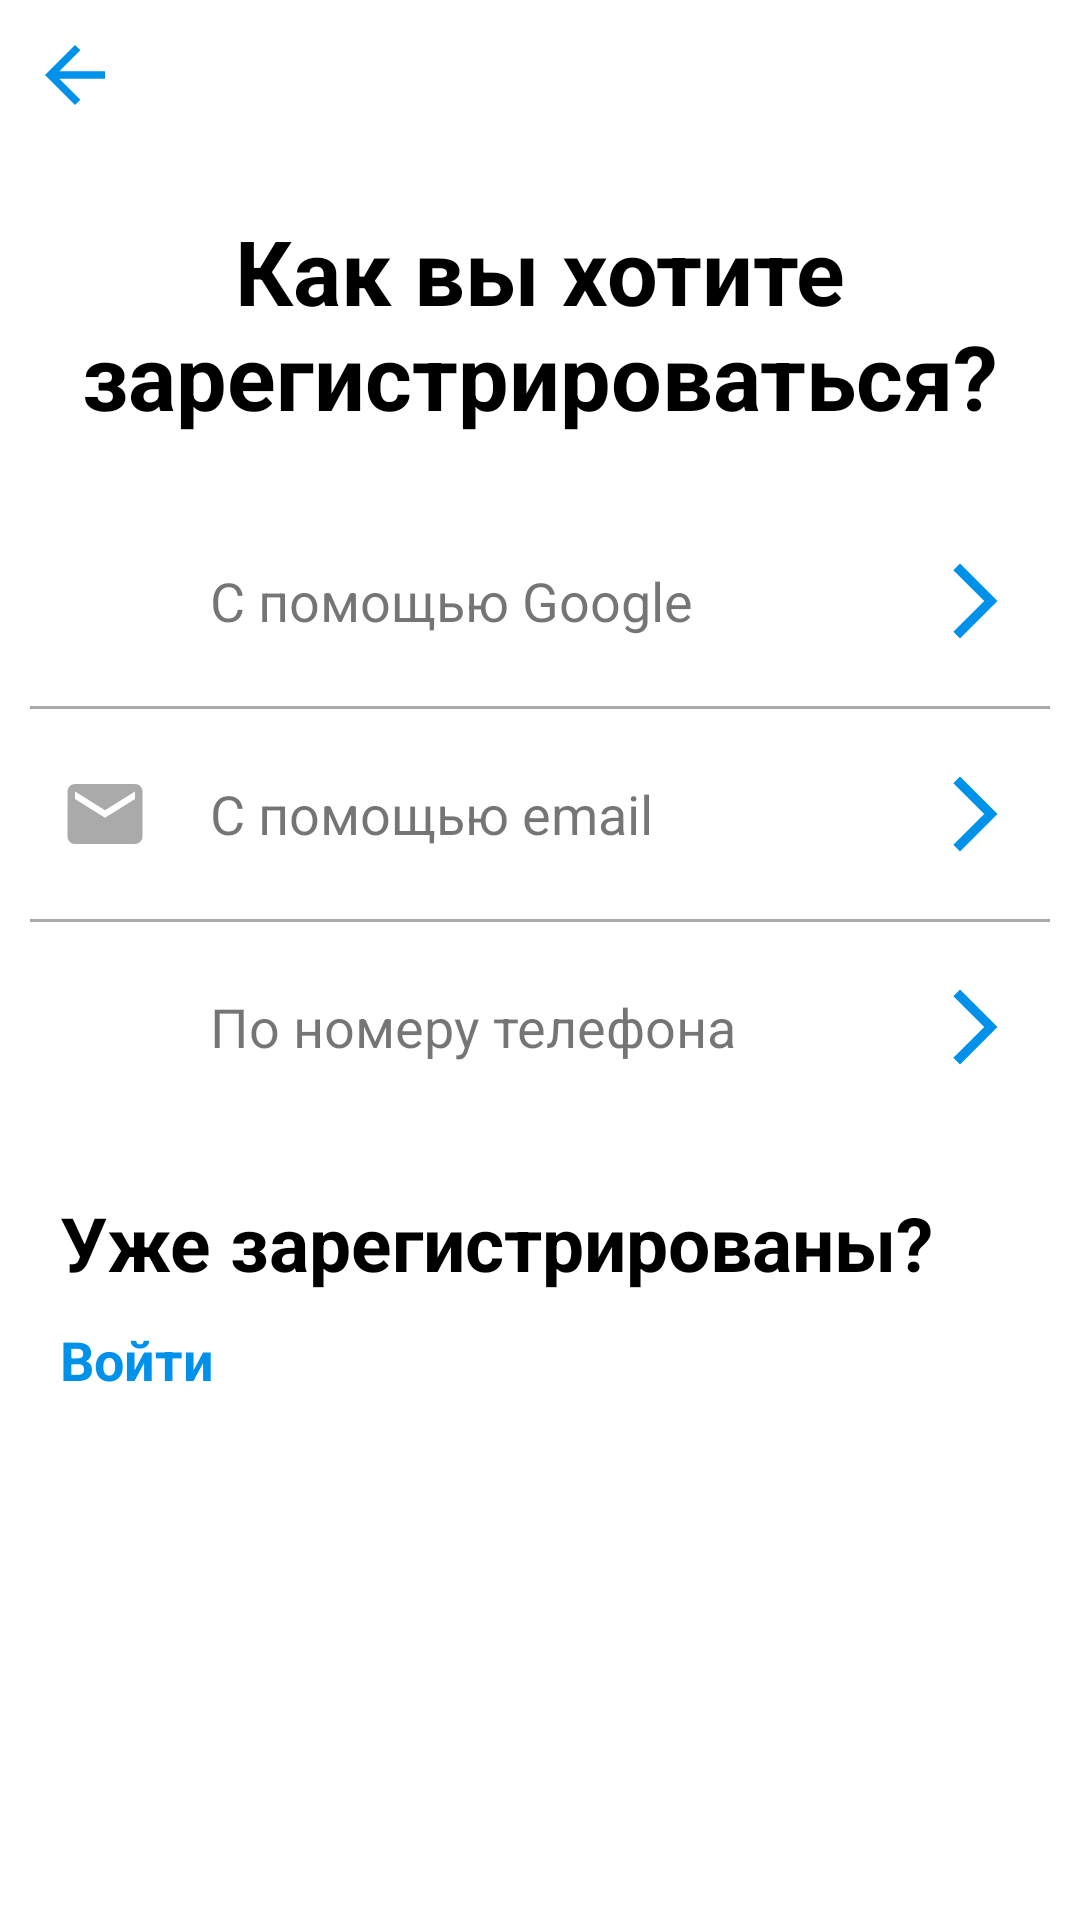

Icon bounding boxes for this 1080w x 1920h phone screenshot, format (x1, y1, x2, y2):
back: (45, 45, 105, 105)
forward: (953, 563, 998, 639), (953, 776, 998, 852), (953, 989, 998, 1065)
